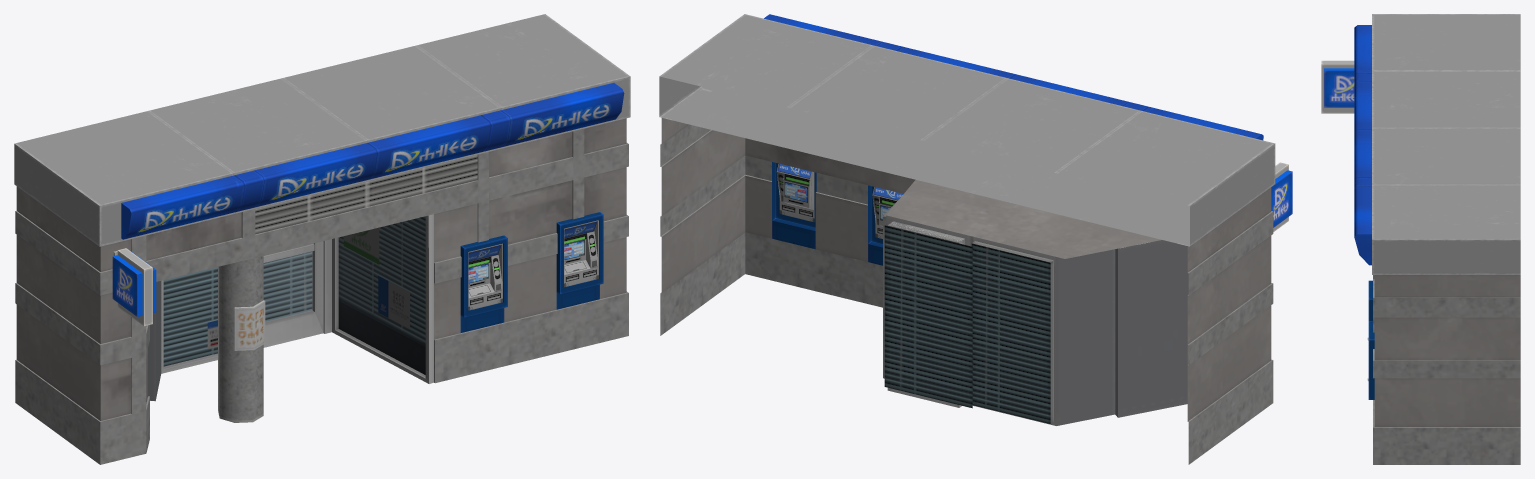
The model's file is objects_un_shoppingbank02.gltf.
3 views of the same model, side by side, from view 1: azimuth 30°, elevation 25°; view 2: azimuth 150°, elevation 25°; view 3: azimuth 270°, elevation 25° (orthographic). The views are drawn at different scales.
Visible parts, largest first — view 1: nomerge_objects_un_shoppingbank02_mesh_shape:objects_un_shop (×4); view 2: nomerge_objects_un_shoppingbank02_mesh_shape:objects_un_shop (×3); view 3: nomerge_objects_un_shoppingbank02_mesh_shape:objects_un_shop (×2).
Boxes of the visible parts, x1,y1,x2,y2 form: nomerge_objects_un_shoppingbank02_mesh_shape:objects_un_shop (×4): (14,14,630,464); nomerge_objects_un_shoppingbank02_mesh_shape:objects_un_shop (×3): (659,14,1292,464); nomerge_objects_un_shoppingbank02_mesh_shape:objects_un_shop (×2): (1321,14,1520,464).
Size of what is drawn, in the model's own units: 7.06 by 3.3 by 2.64.
Materials: 4 (4 with a texture image).
